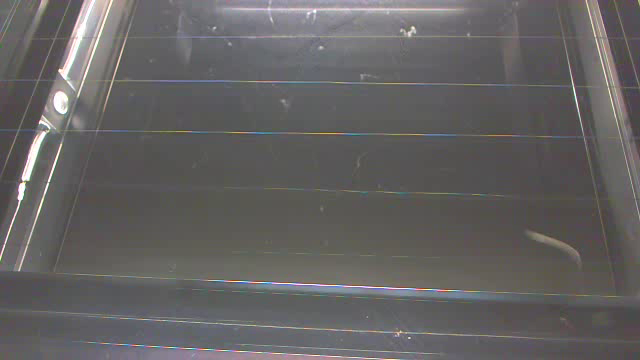alpha: (526, 229, 582, 266)
